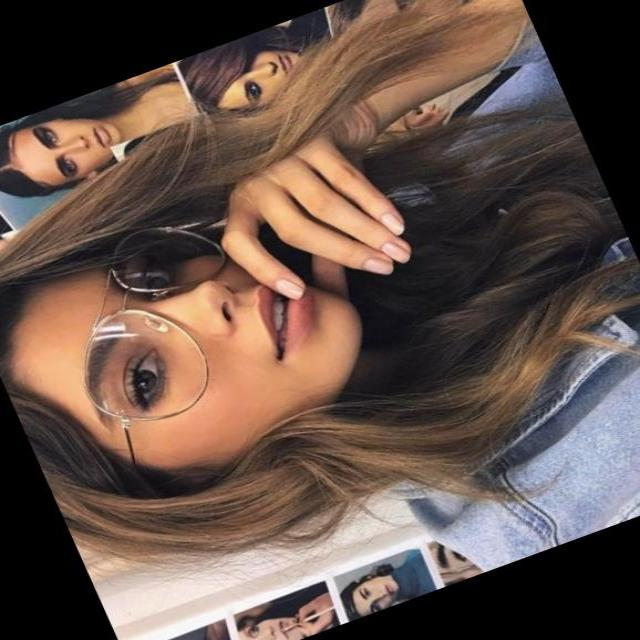glasses: (29, 205, 300, 486)
